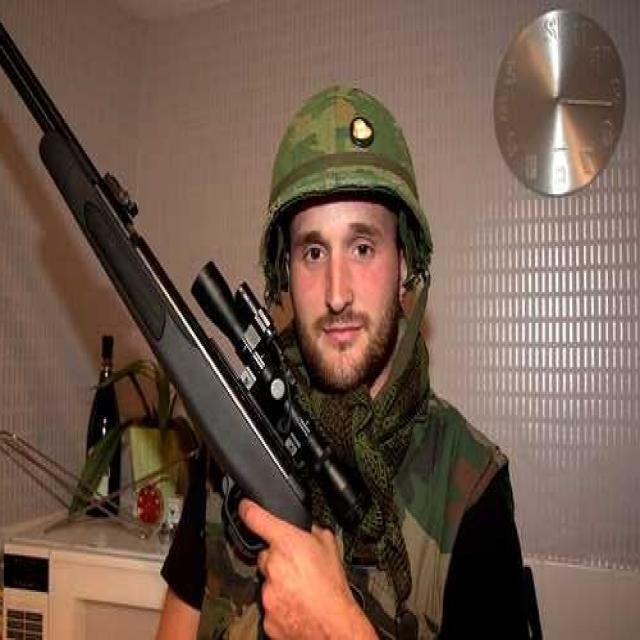heavyweapon: (20, 32, 384, 572)
